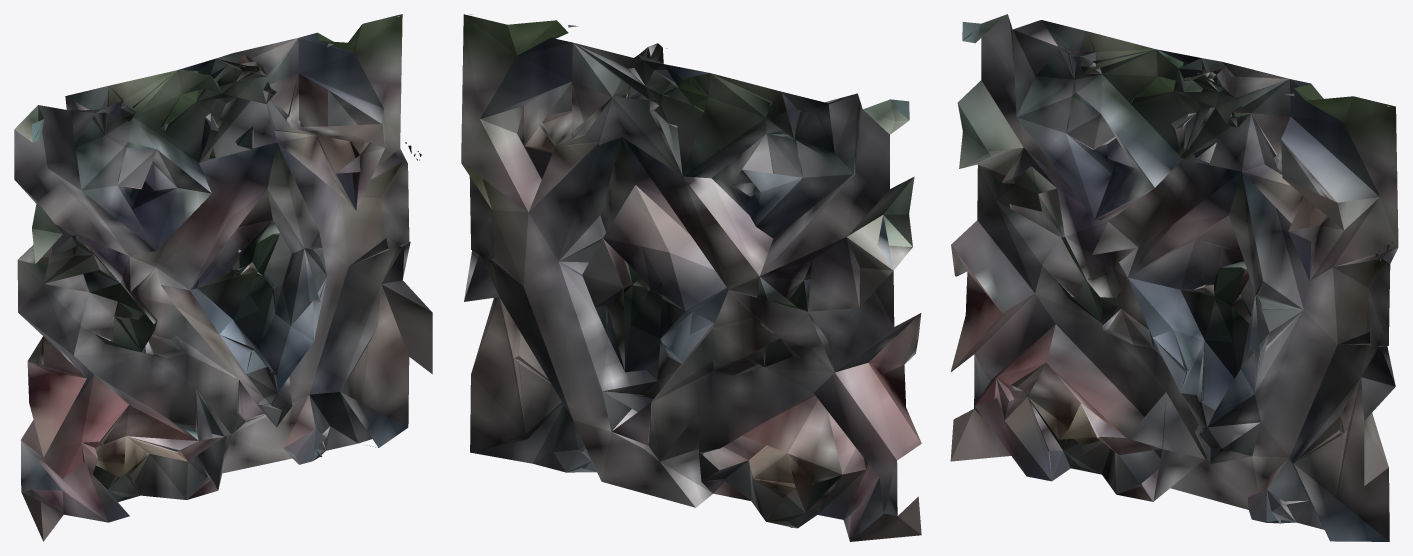
Rendered from Tile_+031_+022_L13.obj.
3 views of the same model, side by side, from view 1: azimuth 30°, elevation 25°; view 2: azimuth 150°, elevation 25°; view 3: azimuth 330°, elevation 25° (orthographic). The views are drawn at different scales.
Bounding box in the file's own units: 250 × 250 × 38.12.
Materials: 1 (1 with a texture image).
